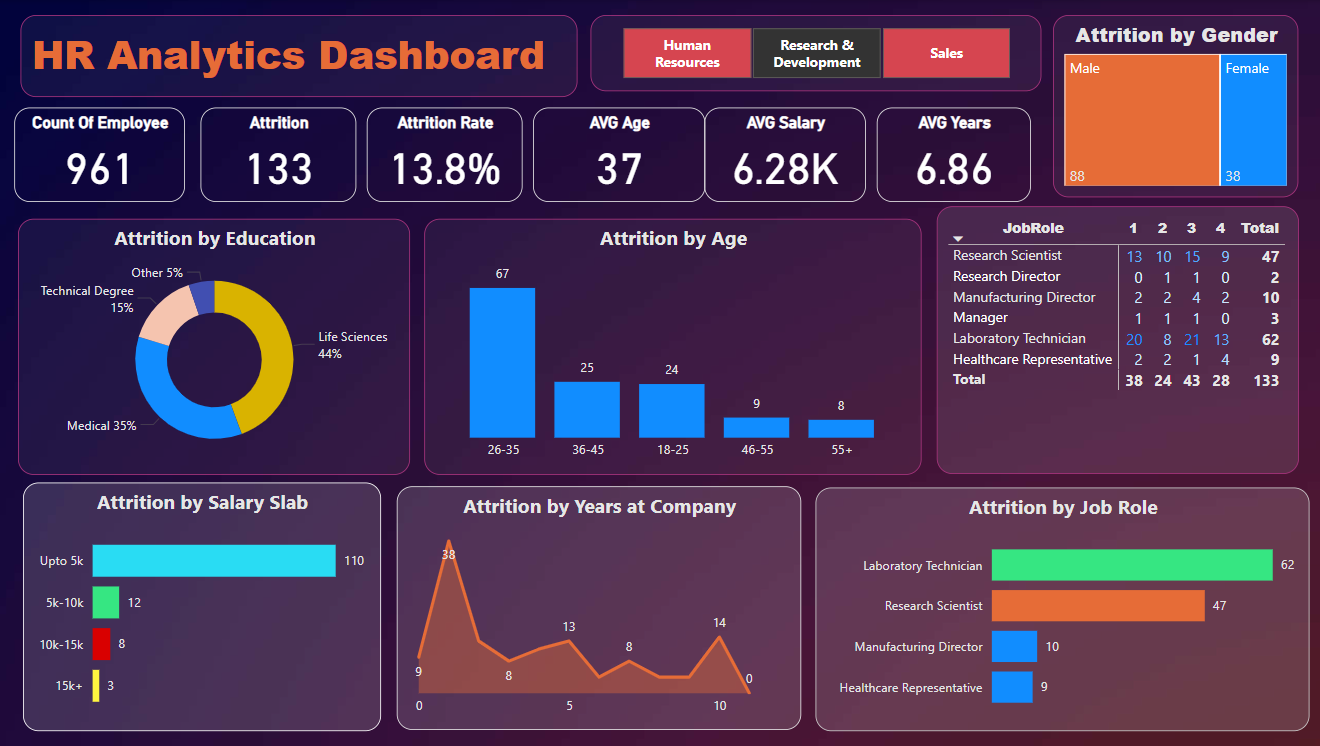

The page's visual inventory and layout, read from the dashboard file:
{"tool":"powerbi","page":{"name":"Page 1","canvas":[1280,720],"ordinal":0},"visuals":[{"type":"card","title":"Count Of Employee","fields":{"Values":["CountNonNull(HR_Analytics.EmpID)"]},"box":[15.9,104,164.7,91],"z":0},{"type":"card","title":"Attrition","fields":{"Values":["Sum(HR_Analytics.Attrition Count)"]},"box":[195.1,104,150.3,91],"z":1000},{"type":"card","title":"Attrition Rate","fields":{"Values":["HR_Analytics.Attrition Rate"]},"box":[355.5,104,150.3,91],"z":2000},{"type":"card","title":"AVG Age","fields":{"Values":["Avg(HR_Analytics.Age)"]},"box":[515.9,104,166.2,91],"z":3000},{"type":"card","title":"AVG Salary","fields":{"Values":["Avg(HR_Analytics.MonthlyIncome)"]},"box":[682.1,104,156.1,91],"z":4000},{"type":"card","title":"AVG Years","fields":{"Values":["Avg(HR_Analytics.YearsAtCompany)"]},"box":[848.2,104,148.8,91],"z":5000},{"type":"donutChart","title":"Attrition by Education","fields":{"Category":["HR_Analytics.EducationField"],"Y":["Sum(HR_Analytics.Attrition Count)"]},"box":[18.8,211,378.6,247.1],"z":6000},{"type":"columnChart","title":"Attrition by Age","fields":{"Category":["HR_Analytics.AgeGroup"],"Y":["Sum(HR_Analytics.Attrition Count)"]},"box":[411.8,211,479.7,247.1],"z":7000},{"type":"pivotTable","fields":{"Rows":["HR_Analytics.JobRole"],"Columns":["HR_Analytics.JobSatisfaction"],"Values":["Sum(HR_Analytics.Attrition Count)"]},"box":[906,199.4,349.7,258.7],"z":8000},{"type":"barChart","title":"Attrition by Salary Slab","fields":{"Category":["HR_Analytics.SalarySlab"],"Y":["Sum(HR_Analytics.Attrition Count)"]},"box":[24.6,465.3,345.4,239.9],"z":9000},{"type":"barChart","title":"Attrition by Job Role","fields":{"Y":["Sum(HR_Analytics.Attrition Count)"],"Category":["HR_Analytics.JobRole"]},"box":[789,471.1,476.9,235.5],"z":10000},{"type":"areaChart","title":"Attrition by Years at Company","fields":{"Category":["HR_Analytics.YearsAtCompany"],"Y":["Sum(HR_Analytics.Attrition Count)"]},"box":[384.4,469.6,390.2,235.5],"z":11000},{"type":"treemap","title":"Attrition by Gender","fields":{"Group":["HR_Analytics.Gender"],"Values":["Sum(HR_Analytics.Attrition Count)"]},"box":[1018.7,14.5,237,176.3],"z":12000},{"type":"slicer","fields":{"Values":["HR_Analytics.Department"]},"box":[572.2,14.5,435,73.7],"z":13000},{"type":"textbox","box":[21.7,14.5,537.5,79.5],"z":14000}]}

Visuals, with their boxes in screenshot pixels (x1, y1, x2, y2), scaled from the page's 1280x720 canvas onto the 1320x746 screenshot:
"Count Of Employee" card: select_region(16, 108, 186, 202)
"Attrition" card: select_region(201, 108, 356, 202)
"Attrition Rate" card: select_region(367, 108, 522, 202)
"AVG Age" card: select_region(532, 108, 703, 202)
"AVG Salary" card: select_region(703, 108, 864, 202)
"AVG Years" card: select_region(875, 108, 1028, 202)
"Attrition by Education" donutChart: select_region(19, 219, 410, 475)
"Attrition by Age" columnChart: select_region(425, 219, 919, 475)
pivotTable - HR_Analytics.JobRole x HR_Analytics.JobSatisfaction: select_region(934, 207, 1295, 475)
"Attrition by Salary Slab" barChart: select_region(25, 482, 382, 731)
"Attrition by Job Role" barChart: select_region(814, 488, 1305, 732)
"Attrition by Years at Company" areaChart: select_region(396, 487, 799, 731)
"Attrition by Gender" treemap: select_region(1051, 15, 1295, 198)
slicer - HR_Analytics.Department: select_region(590, 15, 1039, 91)
textbox: select_region(22, 15, 577, 97)
